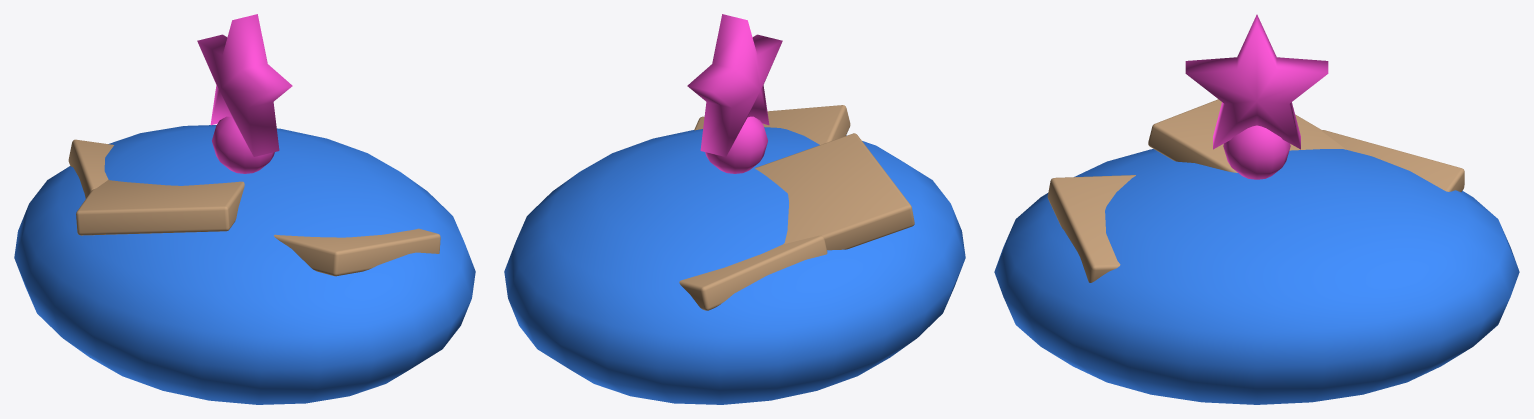
File: SM_JunkPile_Rainbow.fbx
3 renders of one model, left to right at view 1: azimuth 30°, elevation 25°; view 2: azimuth 150°, elevation 25°; view 3: azimuth 270°, elevation 25°, orthographic.
Parts seen in each view (by area): view 1: SM_JunkPile_Rainbow; view 2: SM_JunkPile_Rainbow; view 3: SM_JunkPile_Rainbow.
Part boxes in pixels (x1,y1,x2,y2): SM_JunkPile_Rainbow: (14, 14, 475, 404); SM_JunkPile_Rainbow: (504, 14, 965, 404); SM_JunkPile_Rainbow: (994, 14, 1519, 404).
Size of what is drawn, in the model's own units: 1.2 by 1.02 by 1.4.
Materials: 1 (1 with a texture image).
